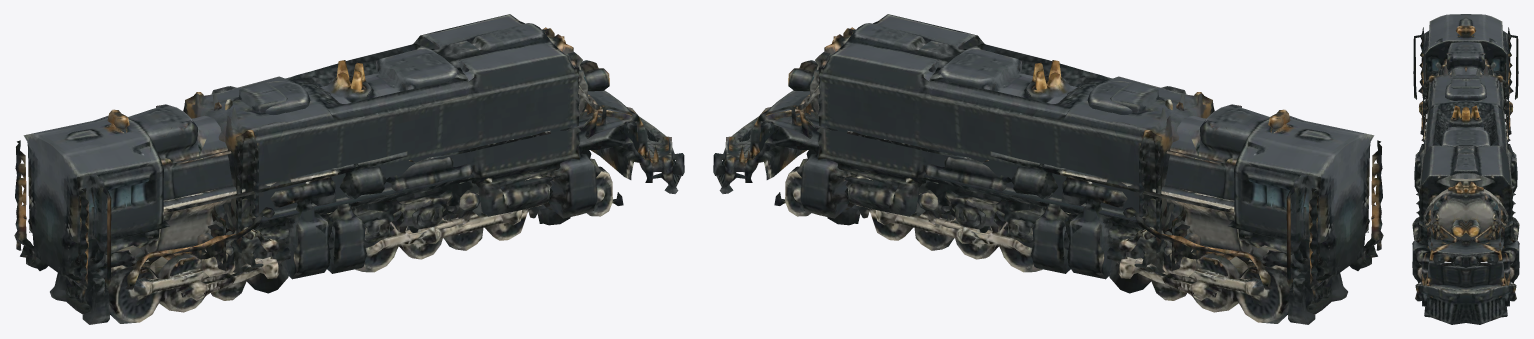
Rendered from big_boy.glb.
3 views of the same model, side by side, from view 1: azimuth 30°, elevation 25°; view 2: azimuth 150°, elevation 25°; view 3: azimuth 270°, elevation 25° (orthographic). The views are drawn at different scales.
Parts seen in each view (by area): view 1: engine, tender, engine.mirror, tender.mirror; view 2: engine.mirror, tender.mirror, engine, tender; view 3: engine, engine.mirror, tender, tender.mirror.
Part boxes in pixels (box(x1,y1,x2,y2)): engine: box(49, 34, 684, 324); tender: box(197, 27, 580, 272); engine.mirror: box(14, 27, 653, 309); tender.mirror: box(183, 14, 539, 118); engine.mirror: box(713, 34, 1348, 324); tender.mirror: box(817, 27, 1200, 272); engine: box(744, 27, 1383, 309); tender: box(858, 14, 1214, 118); engine: box(1412, 14, 1465, 324); engine.mirror: box(1466, 14, 1519, 324); tender: box(1412, 66, 1465, 248); tender.mirror: box(1466, 66, 1519, 248).
Size of the model in its own units: 15.52 by 4.74 by 3.51.
1 material, 1 textured.
